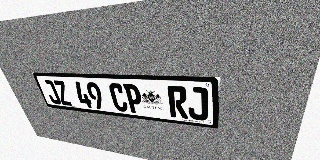4: (72, 81, 93, 108)
9: (85, 82, 106, 109)
C: (108, 83, 129, 112)
J: (187, 87, 208, 121), (42, 80, 62, 105)
P: (123, 84, 144, 114)
R: (167, 86, 188, 119)
Z: (52, 80, 73, 106)
